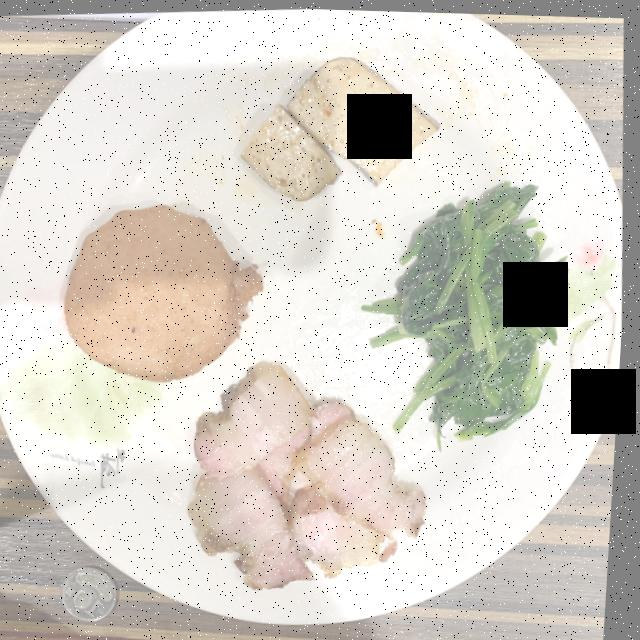Spam: (68, 204, 266, 381)
coin: (67, 567, 124, 620)
firm tofu: (243, 55, 440, 199)
grilled pork: (193, 360, 431, 588)
mustard greens: (365, 179, 570, 438)
